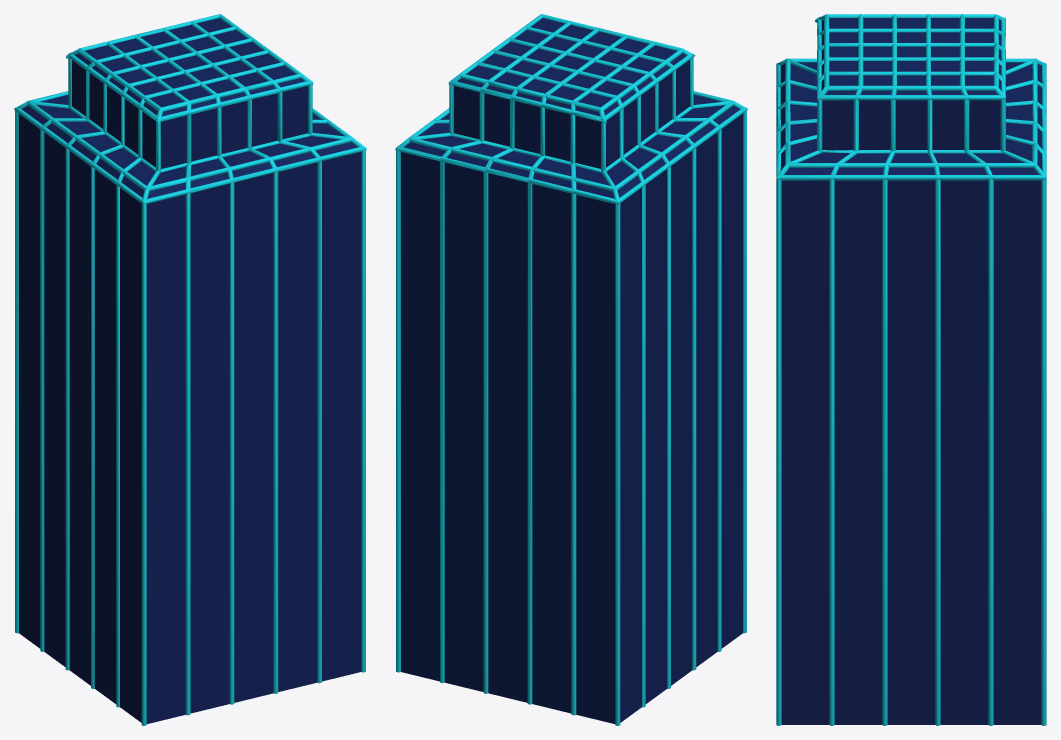
Rendered from Torre01_Mapa01.FBX.
The picture shows the model from 3 angles, left to right: view 1: azimuth 30°, elevation 25°; view 2: azimuth 150°, elevation 25°; view 3: azimuth 270°, elevation 25°; orthographic projection. The views are drawn at different scales.
Parts seen in each view (by area): view 1: Box004, Shape004; view 2: Box004, Shape004; view 3: Box004, Shape004.
Boxes of the visible parts, box(x1,y1,x2,y2) form: Box004: box(19, 18, 361, 723); Shape004: box(14, 14, 366, 725); Box004: box(401, 18, 742, 723); Shape004: box(395, 14, 747, 725); Box004: box(780, 18, 1042, 724); Shape004: box(776, 14, 1046, 725).
Size of the model in its own units: 102 by 258 by 102.
